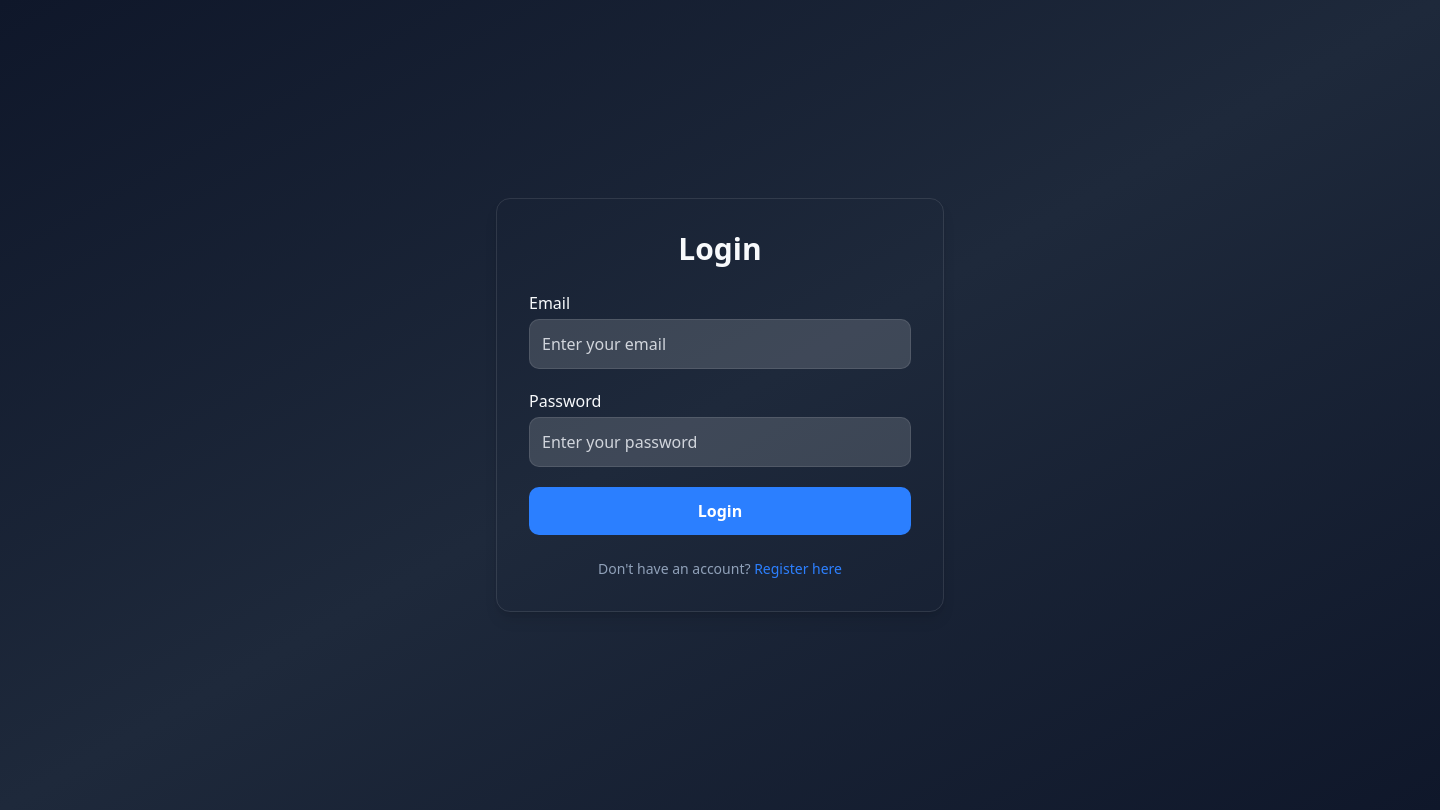
Test case: Login Page › Loading State › disables button during submission
The width and height of the screenshot is (1440, 810).
Type "test@example.com" into the field with placeholder "Enter your email" at (720, 344), box [529, 319, 911, 369]
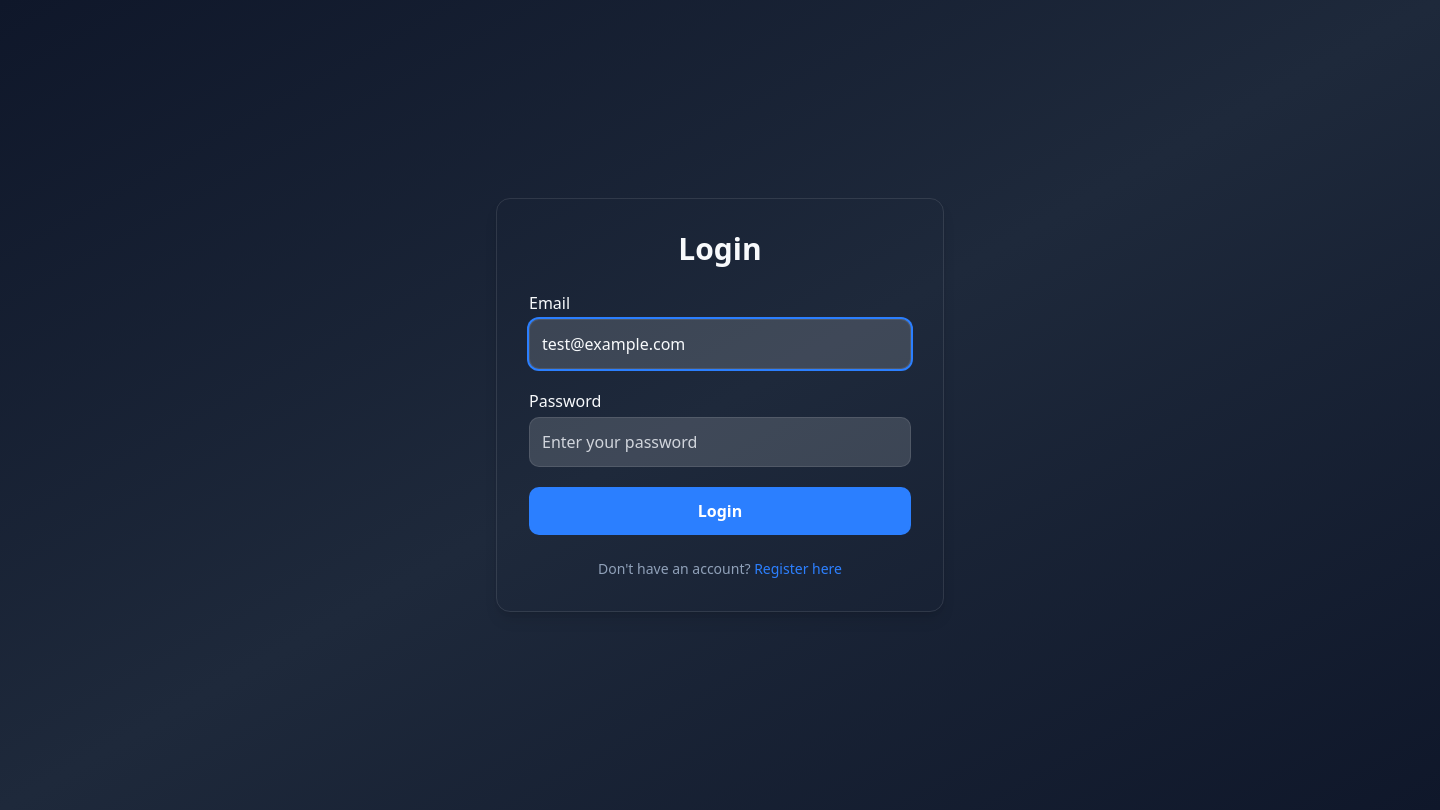
Type "password123" into the password field with placeholder "Enter your password" at (720, 442), box [529, 417, 911, 467]
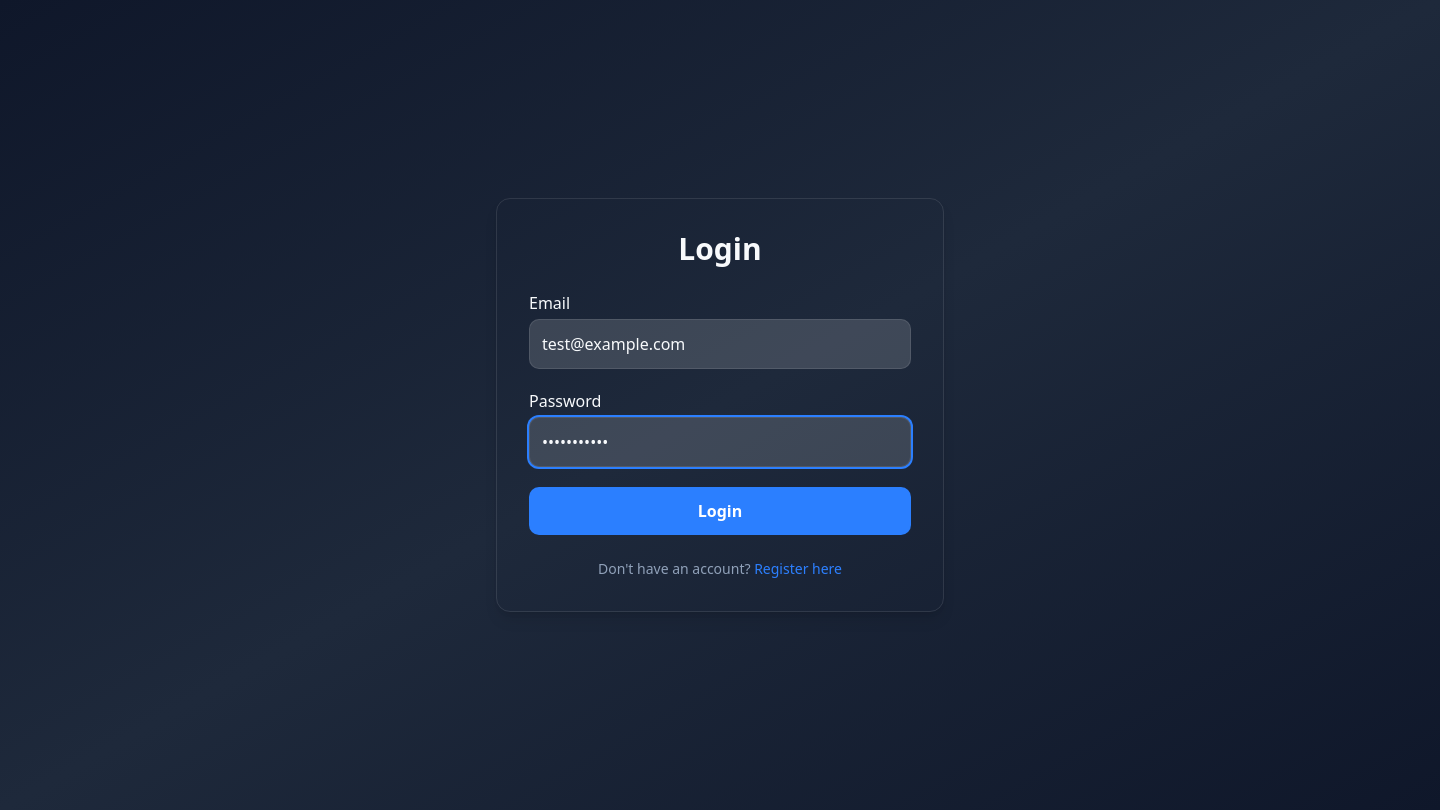
Click the button "Login" at (720, 511), box [529, 487, 911, 535]
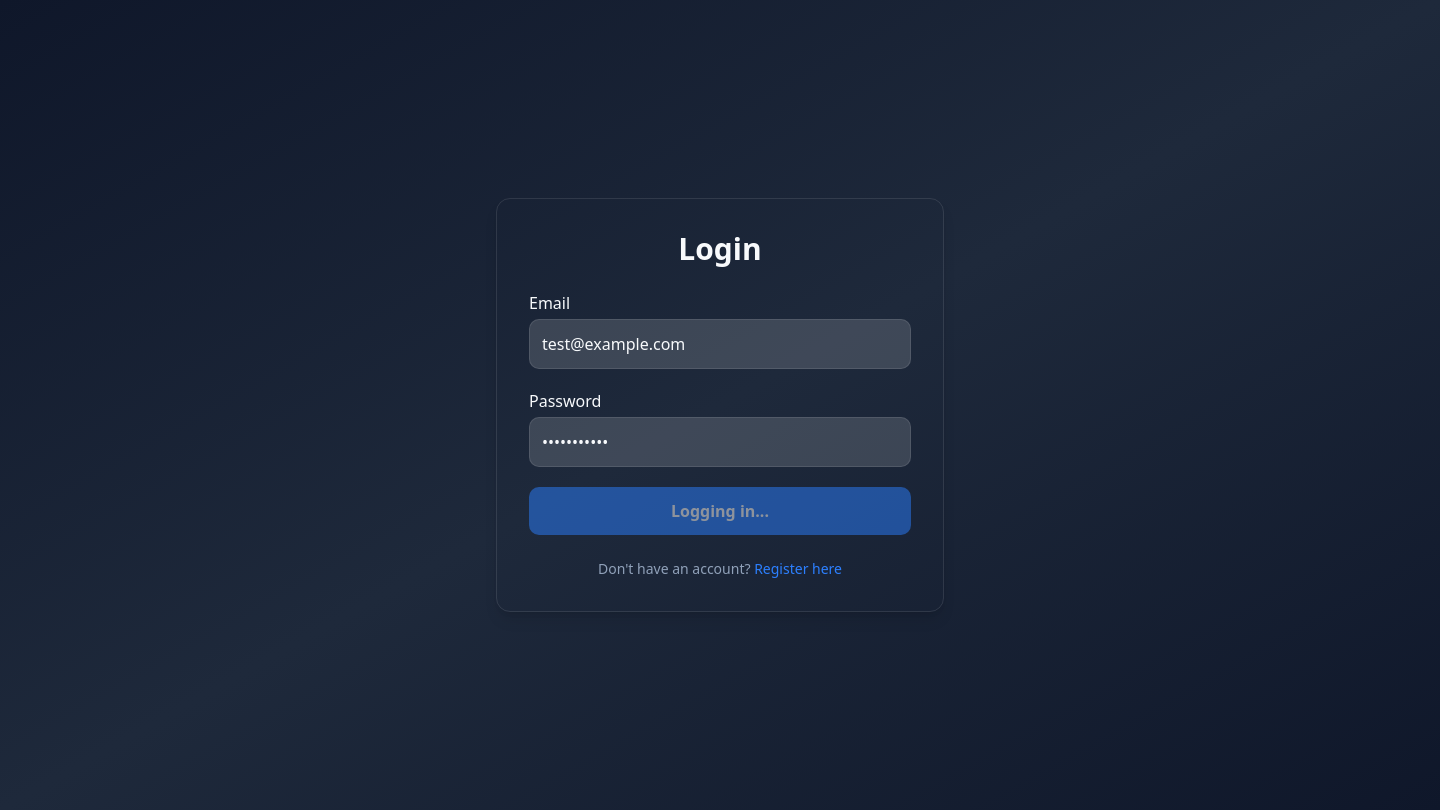
Expected: the button named "login" is disabled, [529, 487, 911, 535]
